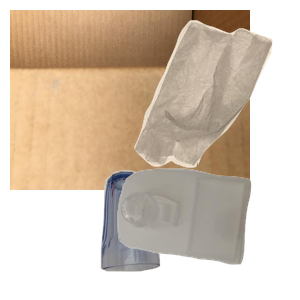cardboard: (10, 10, 250, 190)
glass: (98, 168, 251, 300)
plastic: (115, 166, 300, 300)
trash: (132, 17, 300, 177)
